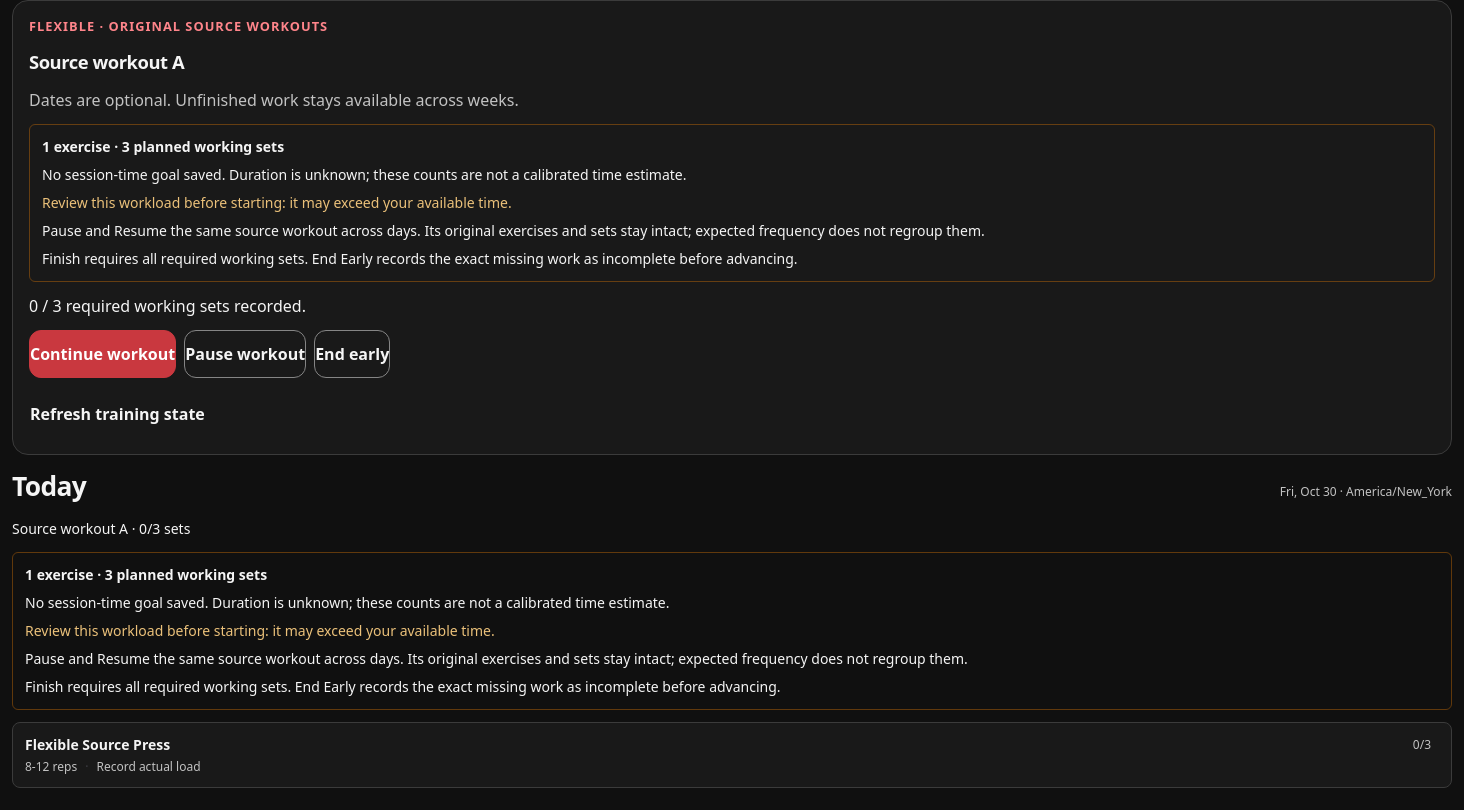
training refresh stays outside active set-entry layout and mandatory blockers still retire the runner
The width and height of the screenshot is (1464, 810).
Click the button "Flexible Source Press 0/3 8-12 reps · Record actual load". click: click(98, 745)
box: [12,722,1452,788]
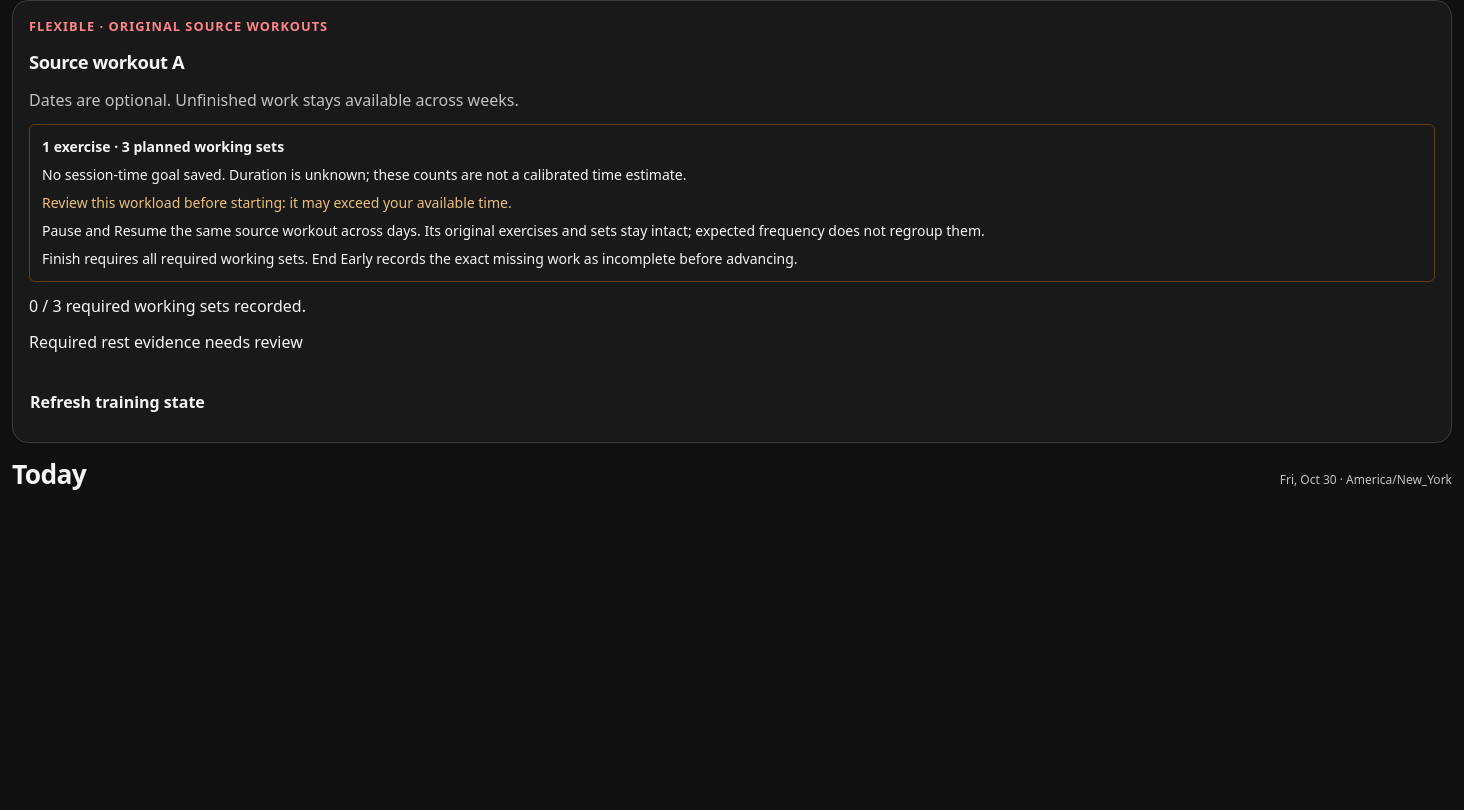
Check: the element named "Flexible training" is shown, box [12,0,1452,443]
Check: the text "Required rest evidence needs review" is shown, box [29,331,303,353]
